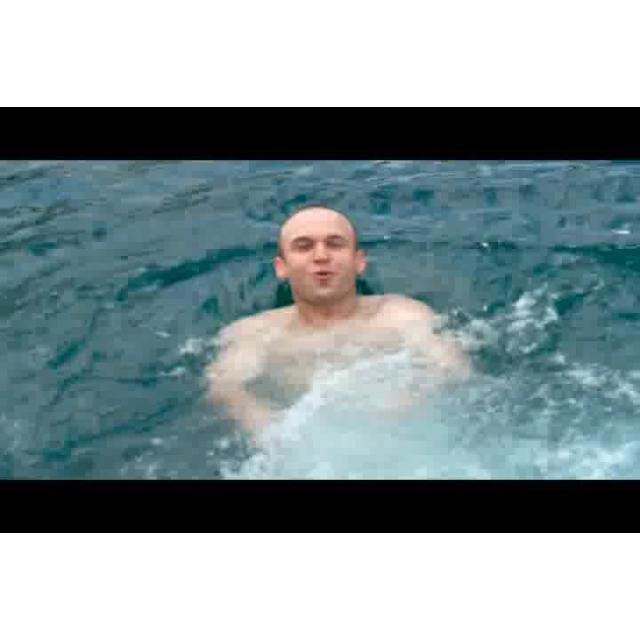human: (205, 202, 460, 437)
